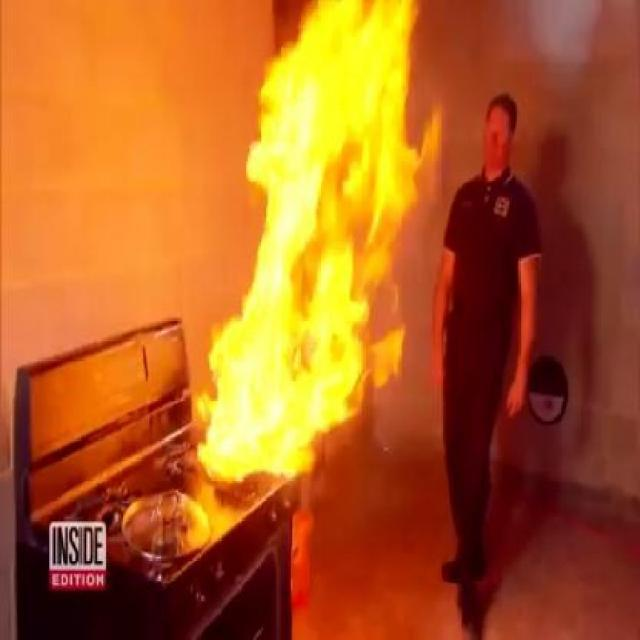fire: (224, 61, 378, 440)
smoke: (508, 4, 607, 73)
